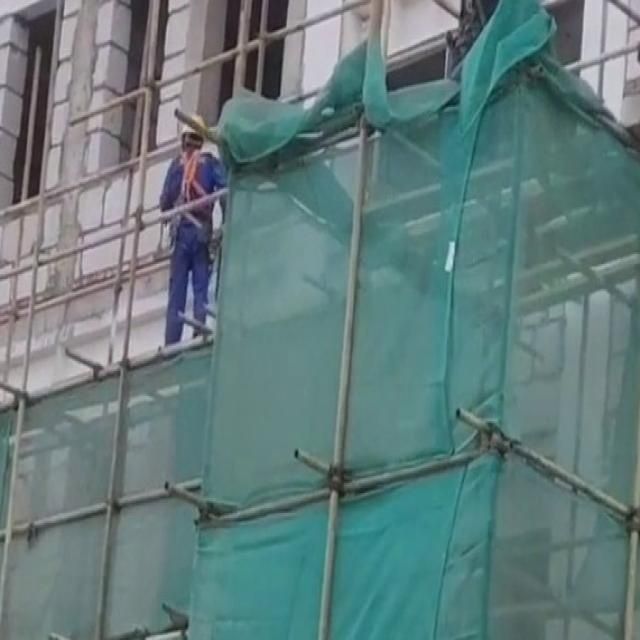Arnes_seguridad: (170, 145, 211, 209)
